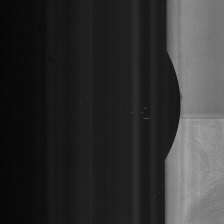welding_line: (178, 113, 224, 127)
